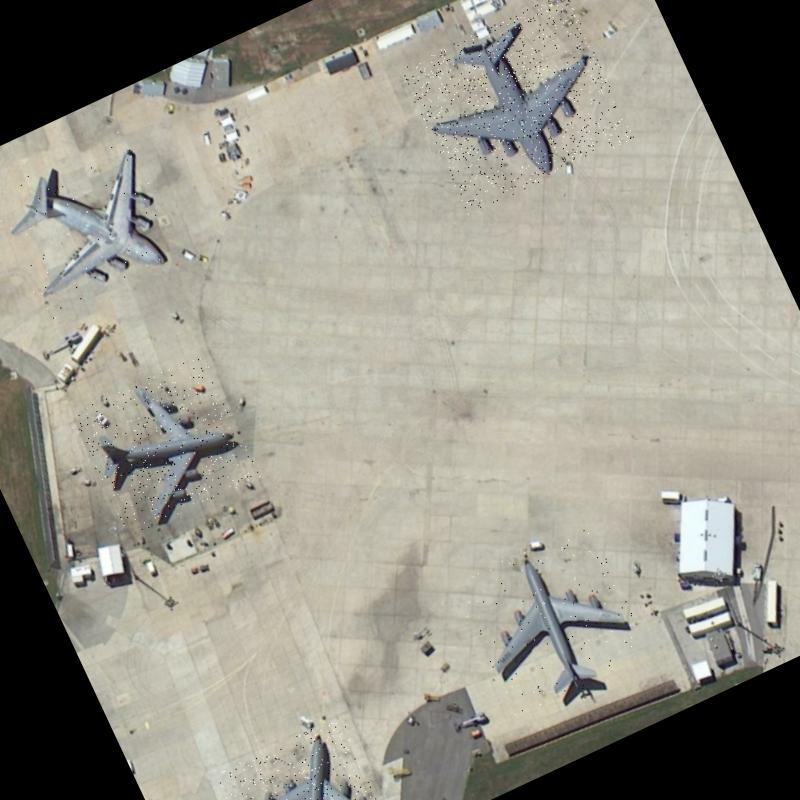A14: (451, 518, 652, 720), (70, 352, 260, 538), (212, 714, 399, 800)
A3: (399, 0, 634, 215), (0, 121, 189, 325)
